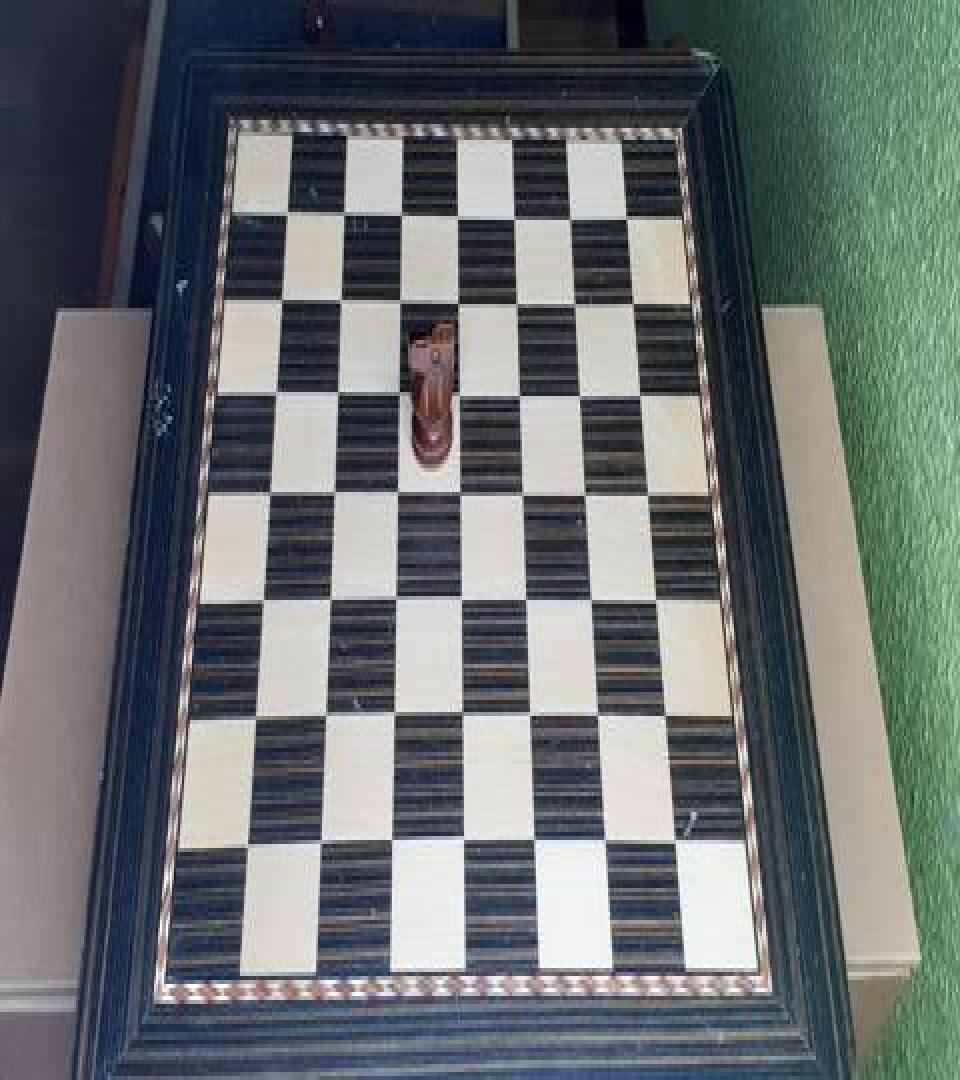xcorner: (275, 184, 293, 220), (269, 272, 287, 308), (264, 368, 282, 404), (257, 470, 275, 506), (251, 582, 269, 618), (244, 700, 262, 736), (236, 830, 254, 866), (333, 186, 351, 222), (330, 274, 348, 310), (327, 370, 345, 406), (323, 472, 341, 508), (319, 582, 337, 618), (314, 700, 332, 736), (310, 830, 328, 866), (392, 188, 410, 224), (391, 276, 409, 312), (389, 370, 407, 406), (388, 472, 406, 508), (386, 582, 404, 618), (385, 702, 403, 738), (383, 830, 401, 866), (450, 188, 468, 224), (451, 278, 469, 314), (452, 372, 470, 408), (453, 474, 471, 510), (454, 584, 472, 620), (455, 702, 473, 738), (456, 830, 474, 866), (508, 190, 526, 226), (511, 280, 529, 316), (514, 374, 532, 410), (517, 476, 535, 512), (520, 584, 538, 620), (524, 702, 542, 738), (528, 830, 546, 866), (566, 192, 584, 228), (571, 280, 589, 316), (576, 374, 594, 410), (581, 476, 599, 512), (587, 586, 605, 622), (593, 702, 611, 738), (600, 830, 618, 866), (623, 194, 641, 230), (630, 282, 648, 318), (637, 376, 655, 412), (644, 478, 662, 514), (653, 586, 671, 622), (661, 704, 679, 740), (671, 830, 689, 866)
